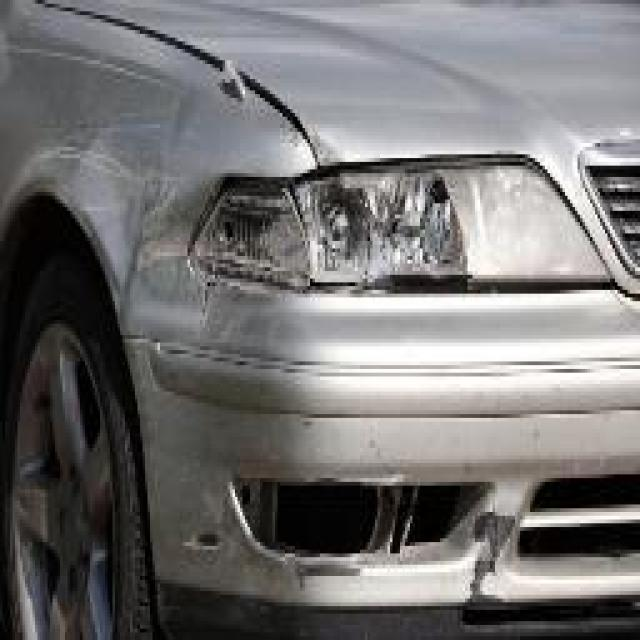Bumper: (138, 365, 550, 632)
Fender: (15, 79, 212, 312)
Light: (215, 173, 580, 282)
